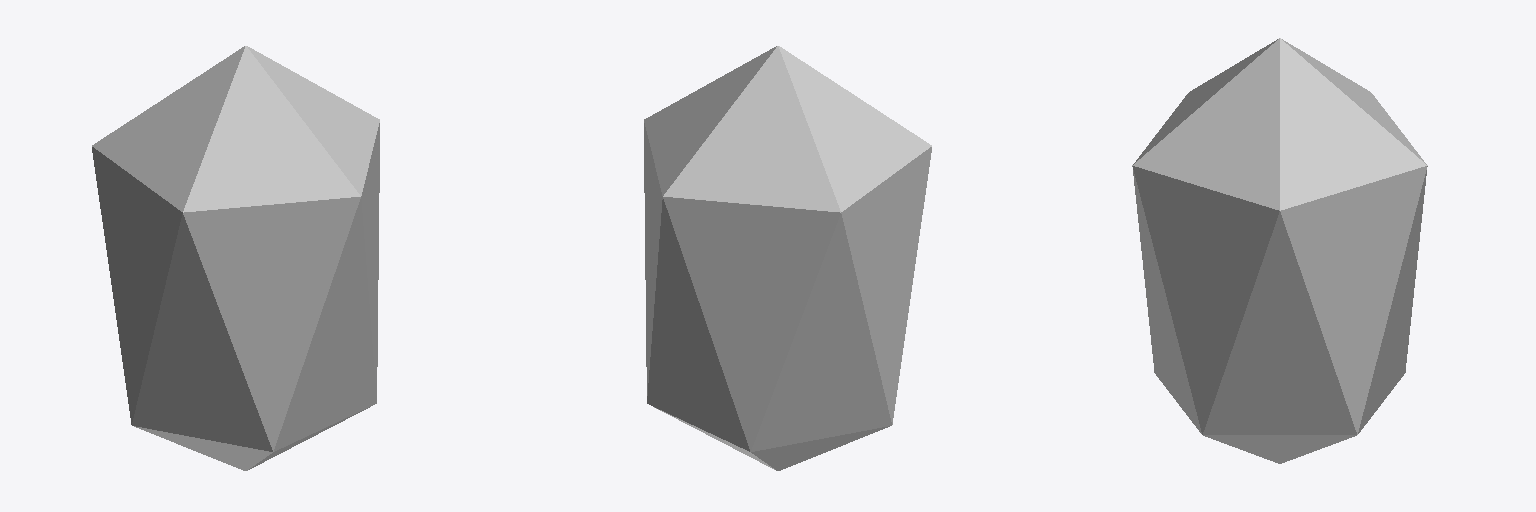
File: orbital2.obj
The picture shows the model from 3 angles: view 1: azimuth 30°, elevation 25°; view 2: azimuth 150°, elevation 25°; view 3: azimuth 270°, elevation 25°; orthographic projection.
Parts seen in each view (by area): view 1: Icosphere; view 2: Icosphere; view 3: Icosphere.
Part boxes in pixels (left/top/right/bottom): Icosphere: left=92, top=46, right=379, bottom=470; Icosphere: left=644, top=46, right=931, bottom=470; Icosphere: left=1132, top=38, right=1427, bottom=463.
Size of the model in its own units: 1.08 by 1.77 by 1.11.